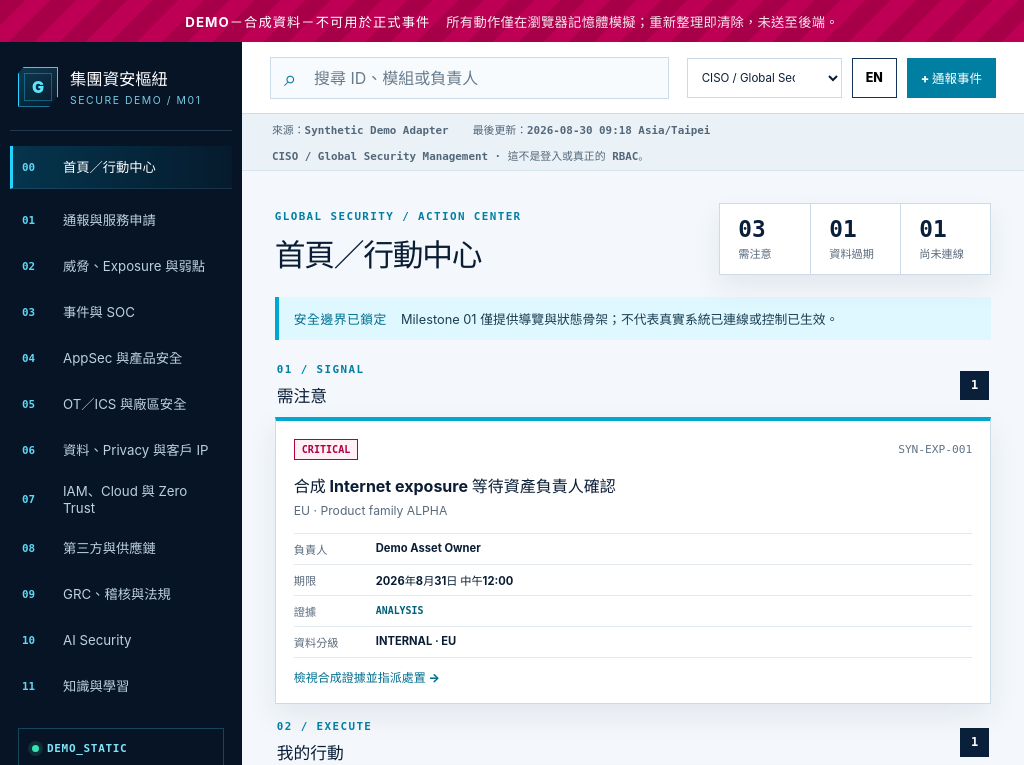
secure demo shell › switches the interface to English without representing authentication
The width and height of the screenshot is (1024, 765).
Click the button with aria-label "Switch to English" at {"x": 874, "y": 78}, box left=852, top=58, right=897, bottom=98
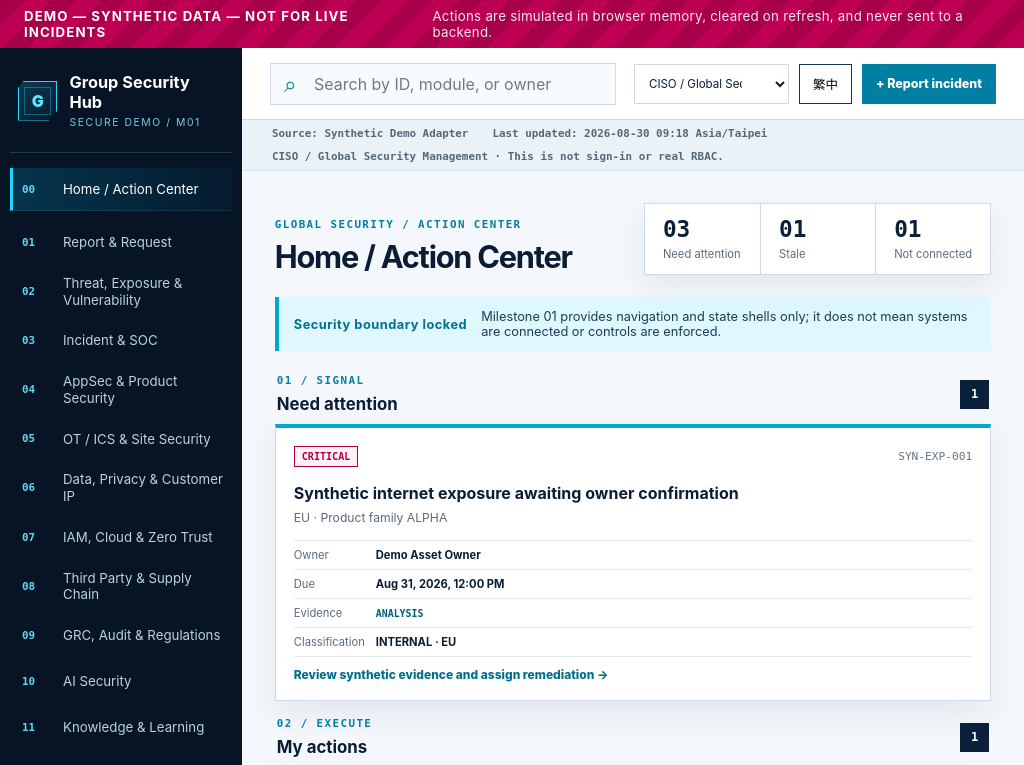
expect the text "DEMO — SYNTHETIC DATA — NOT FOR LIVE INCIDENTS" is shown: met, box left=24, top=8, right=349, bottom=40
expect the text "This is not sign-in or real RBAC" is shown: met, box left=508, top=150, right=724, bottom=163
